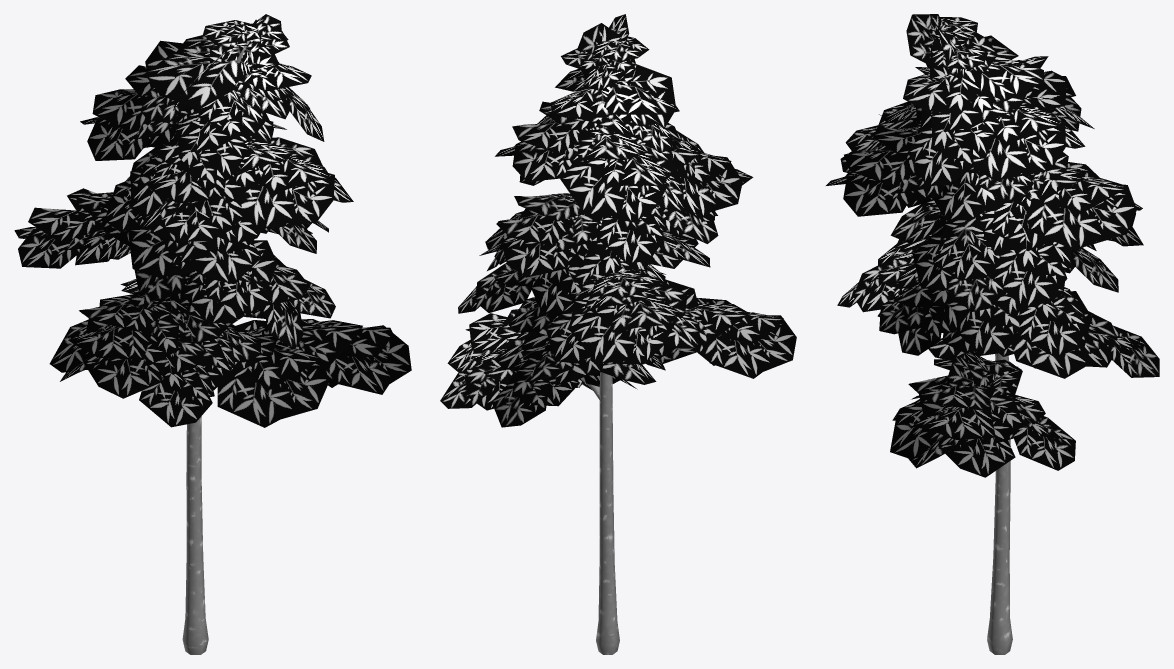
The model's file is P_Bamboo4.obj.
3 views of the same model, side by side, from view 1: azimuth 30°, elevation 25°; view 2: azimuth 150°, elevation 25°; view 3: azimuth 270°, elevation 25° (orthographic). The views are drawn at different scales.
Size of the model in its own units: 11.5 by 20.54 by 9.6.
